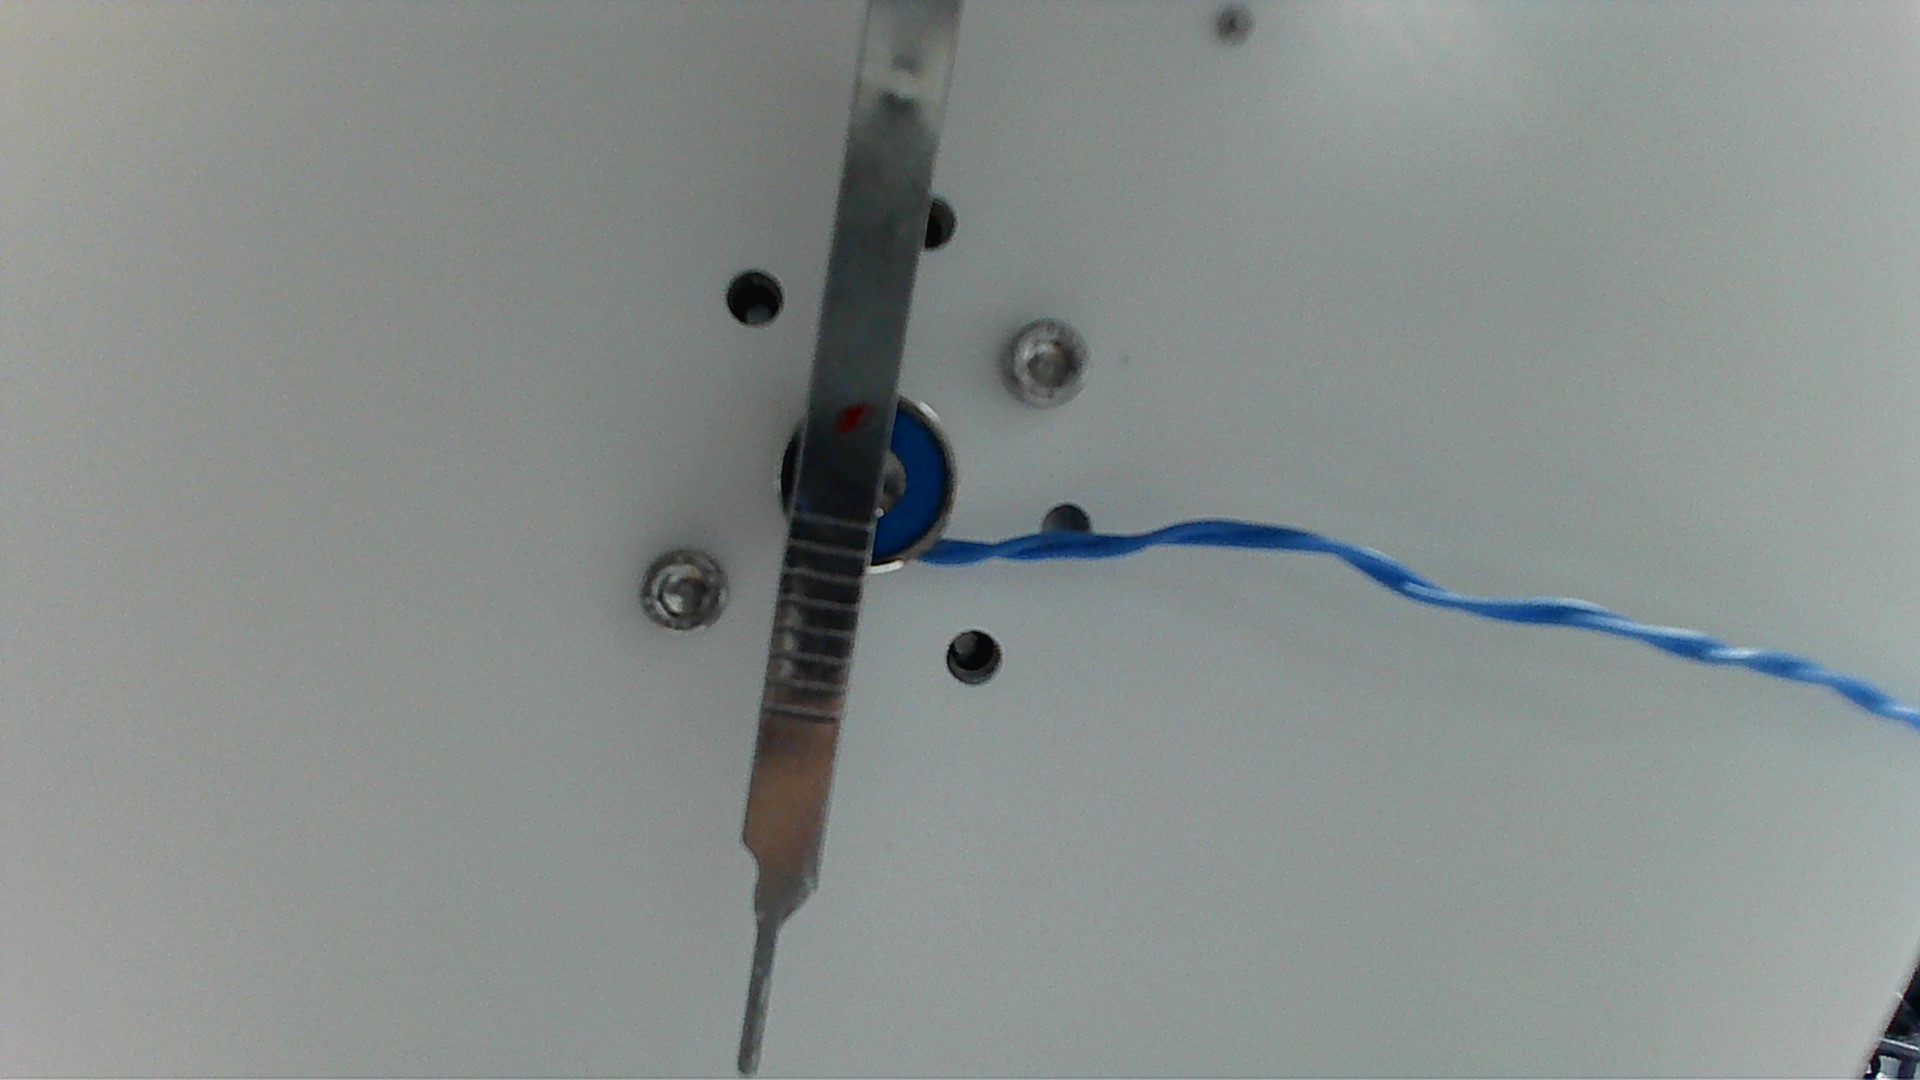Stain: (823, 394, 880, 434)
